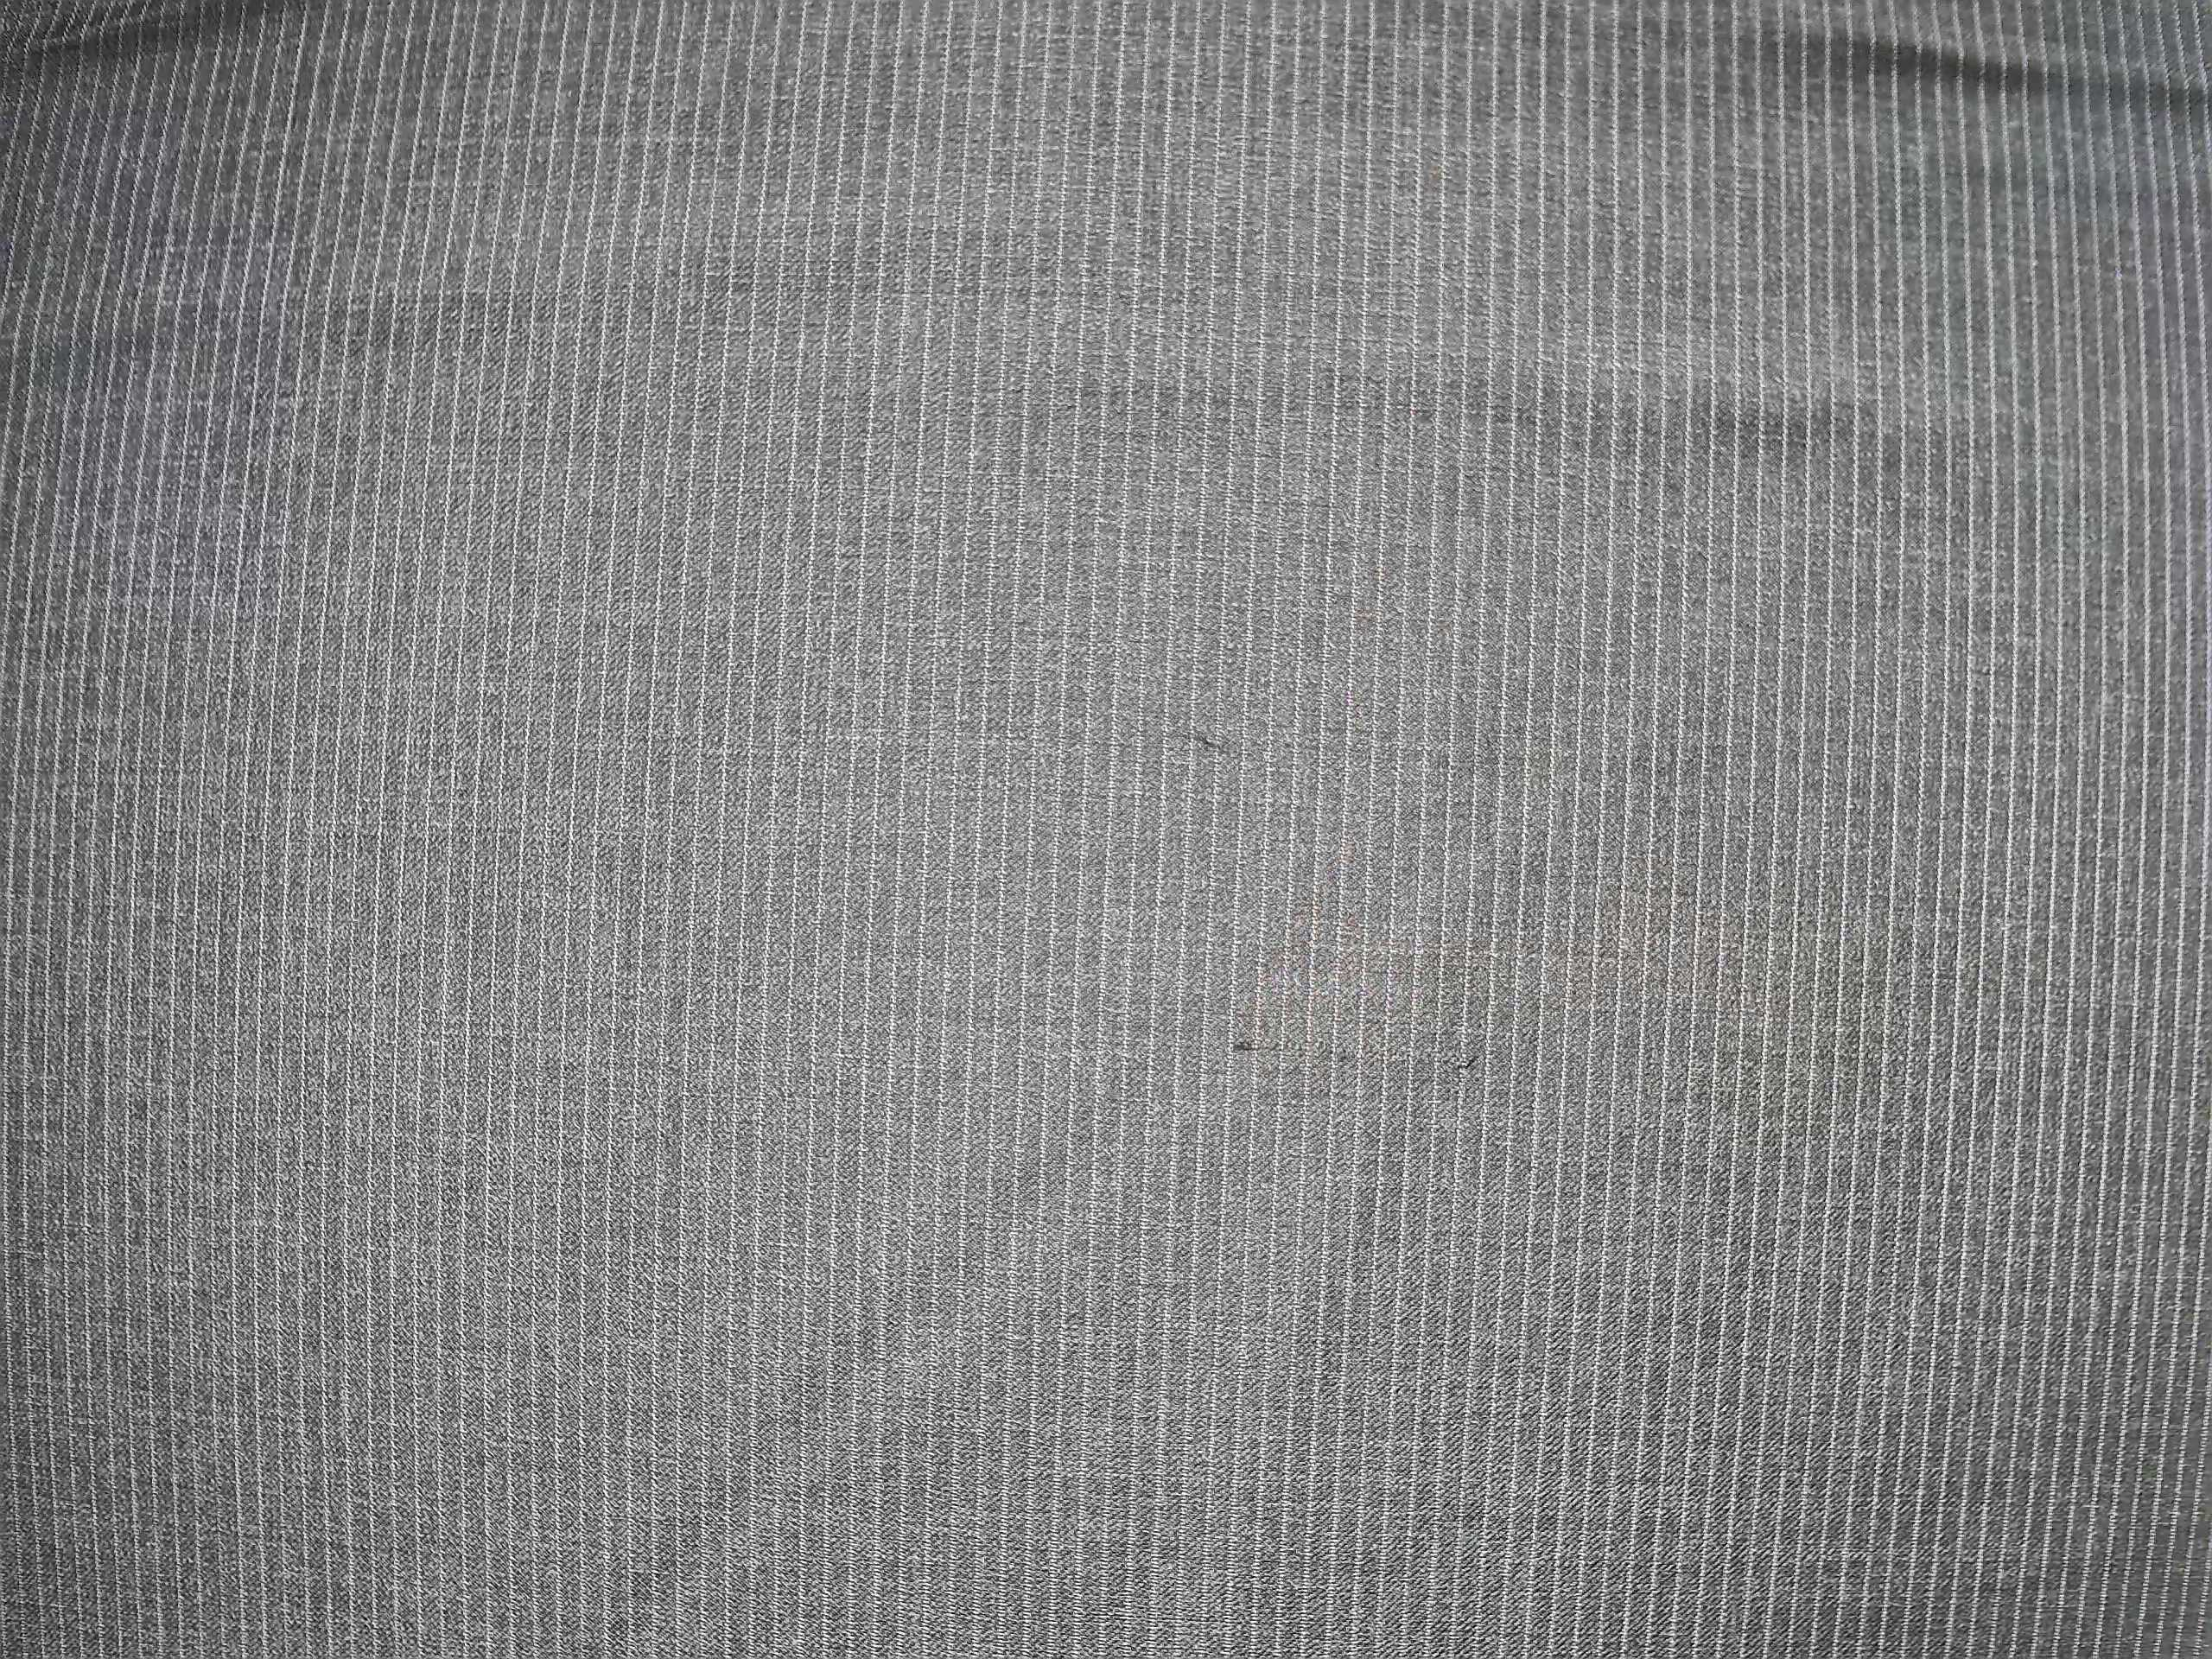others: (1162, 1000, 1522, 1094), (1165, 709, 1263, 775)
